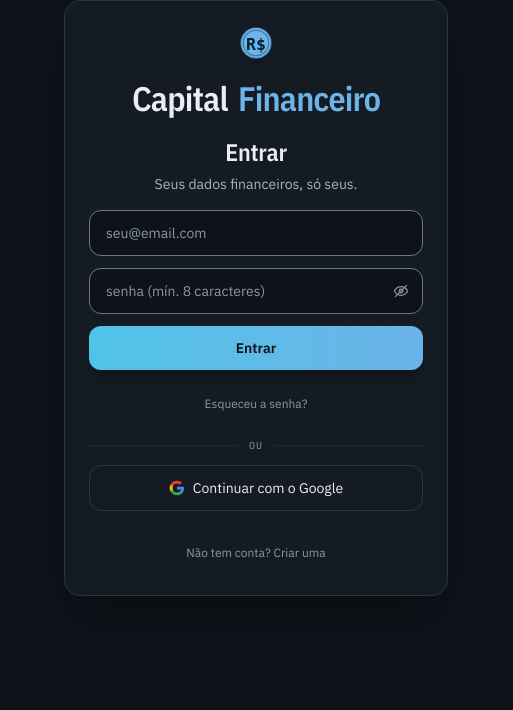
Test case: Auth — confirmação de e-mail no cadastro › conta o que aconteceu: diz que veio um código e onde usá-lo
Click the button "Não tem conta? Criar uma" at {"x": 256, "y": 553}, box [89,531,423,575]
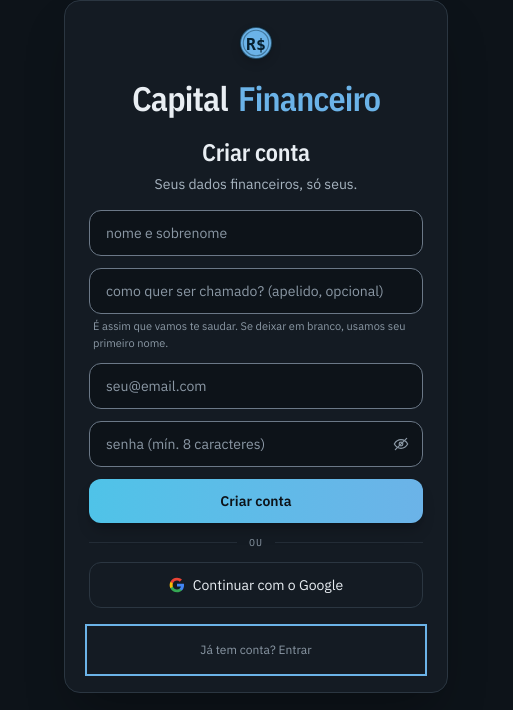
Type "Ana Souza" into the field named "Nome completo" at {"x": 256, "y": 233}, box [89,210,423,256]
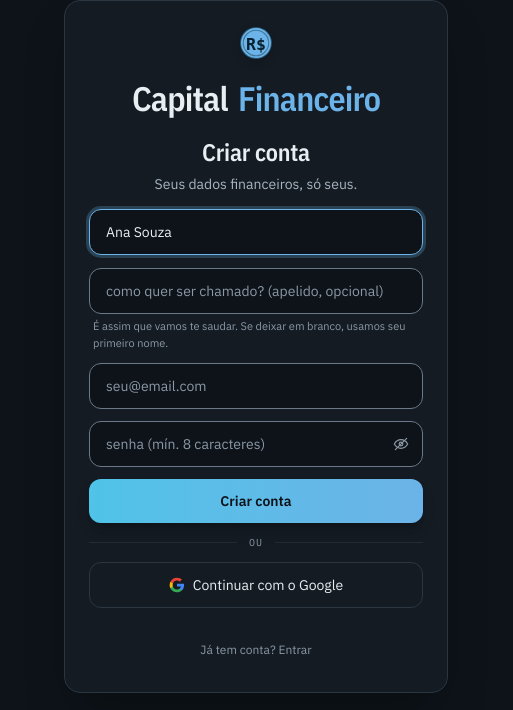
Type "ana@exemplo.com" into the field named "E-mail" at {"x": 256, "y": 386}, box [89,363,423,409]
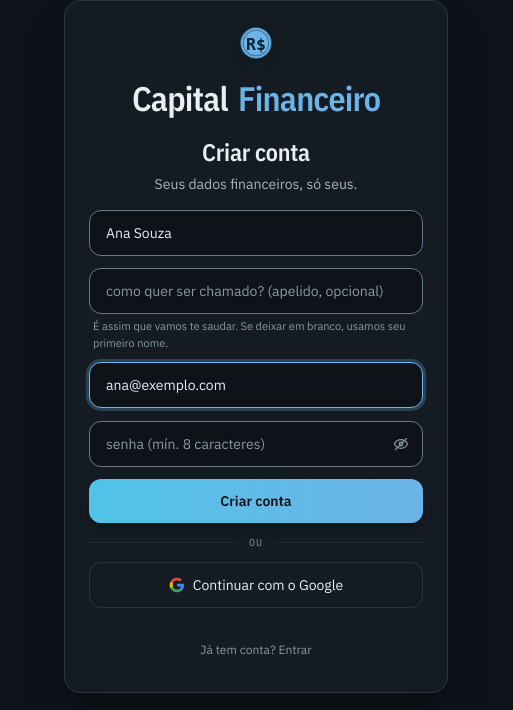
Type "senha-bem-grande" into the password field labelled "senha" at {"x": 256, "y": 444}, box [89,421,423,467]
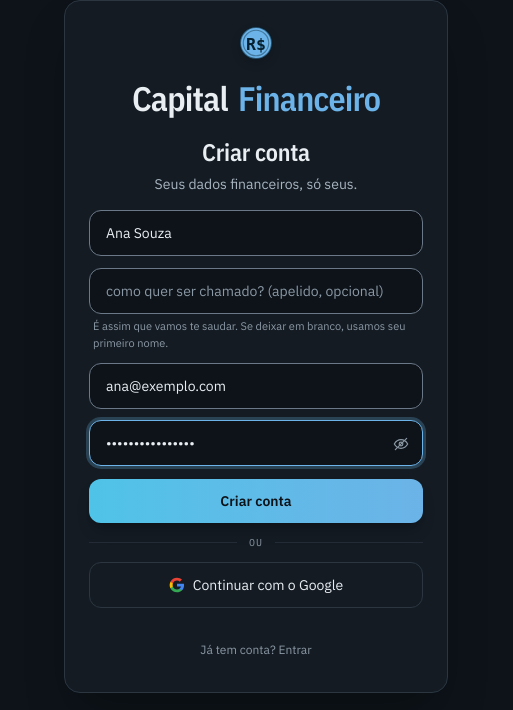
Click the button "Criar conta" at {"x": 256, "y": 501}, box [89,479,423,523]
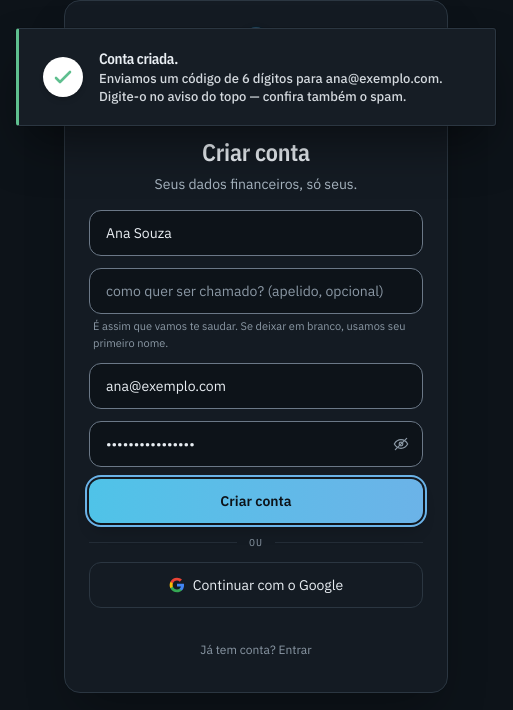
expect the text "aviso do topo" is shown: met, box [99,70,443,104]
